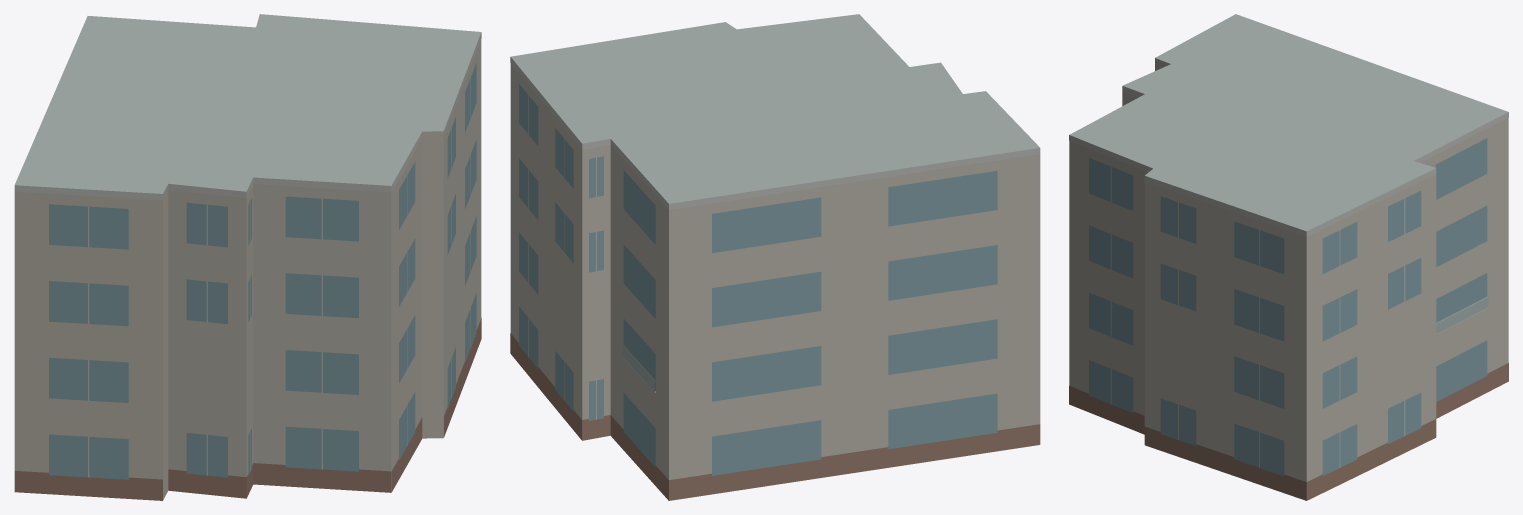
File: survey-upis-32926693.glb
3 renders of one model, left to right at view 1: azimuth 30°, elevation 25°; view 2: azimuth 150°, elevation 25°; view 3: azimuth 270°, elevation 25°, orthographic. The views are drawn at different scales.
Visible parts, largest first — view 1: survey-upis-32926693.tmp; view 2: survey-upis-32926693.tmp; view 3: survey-upis-32926693.tmp.
Part boxes in pixels (x1,y1,x2,y2): survey-upis-32926693.tmp: (14, 14, 481, 500); survey-upis-32926693.tmp: (510, 14, 1040, 500); survey-upis-32926693.tmp: (1069, 14, 1508, 500).
Bounding box in the file's own units: 20.25 × 11.7 × 17.3.
